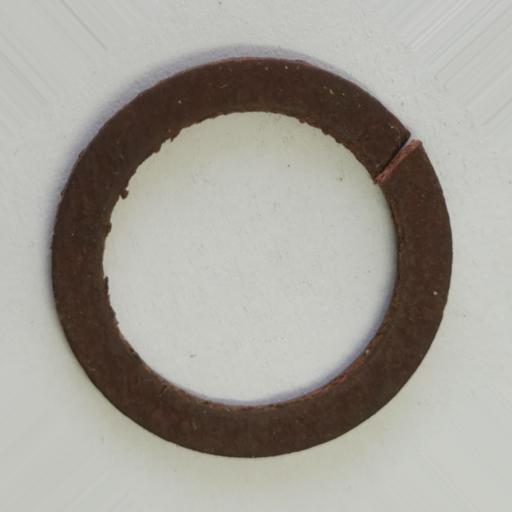defect: (373, 134, 421, 186), (158, 384, 168, 397)
